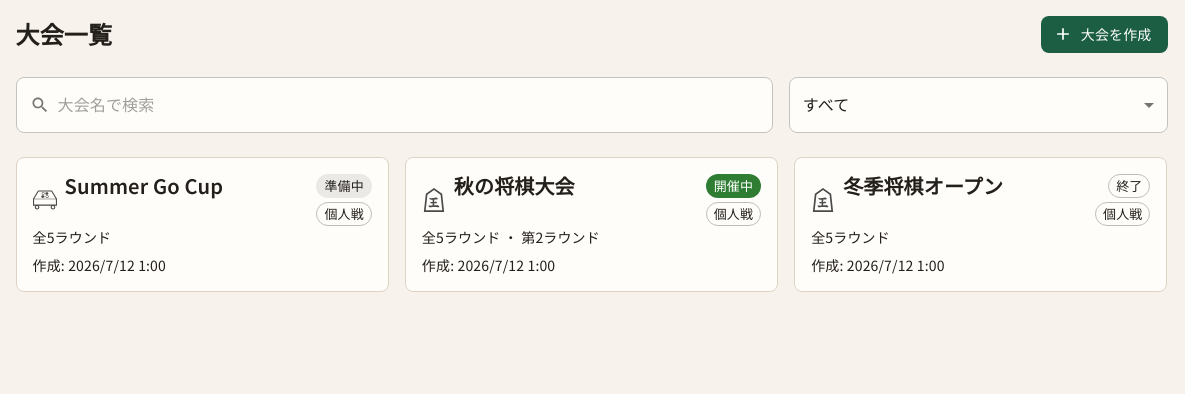
Test case: TournamentListPage › TRN-AC-023: 検索・フィルタの結果が0件のとき専用の空状態が表示され、「検索条件をクリア」で元の一覧に戻る
The width and height of the screenshot is (1185, 394).
Expected: the heading "Summer Go Cup" is shown, 64,174 -> 223,220
In the field labelled "大会名で検索": (415, 104) 58,76 -> 773,132, type "該当なし"
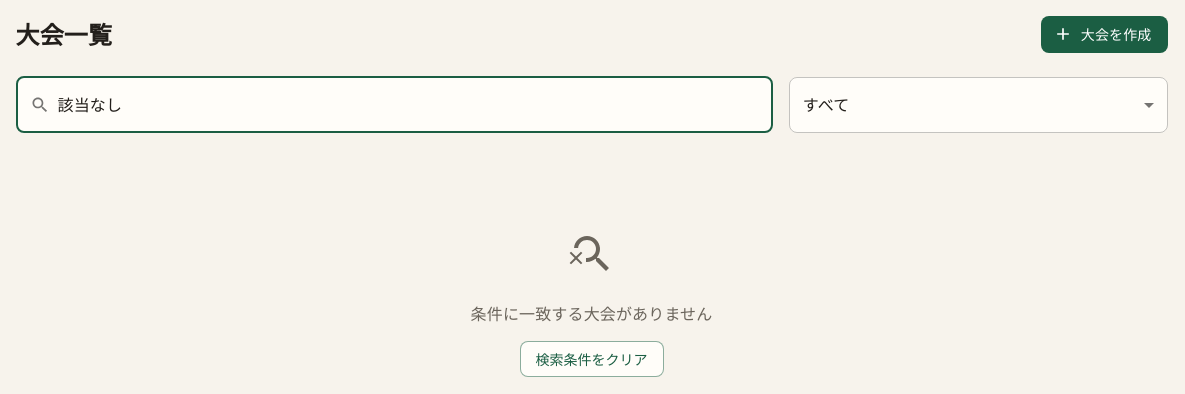
Now the text "条件に一致する大会がありません" is shown, box 471,300 -> 712,324
Now the link "Summer Go Cup" is gone
Click the button "検索条件をクリア": (592, 359) 520,340 -> 664,377
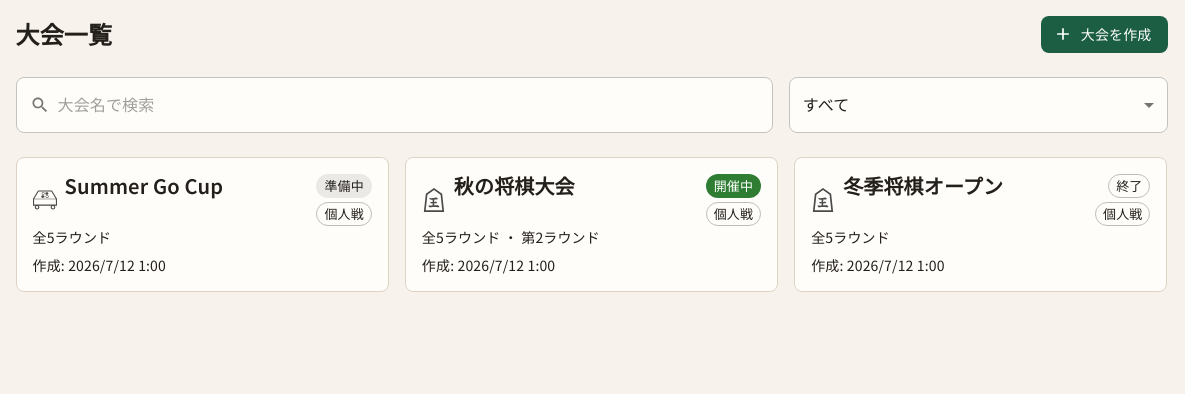
Now the heading "Summer Go Cup" is shown, box 64,174 -> 223,220
Now the heading "秋の将棋大会" is shown, box 454,174 -> 575,220
Now the heading "冬季将棋オープン" is shown, box 843,174 -> 1003,220
